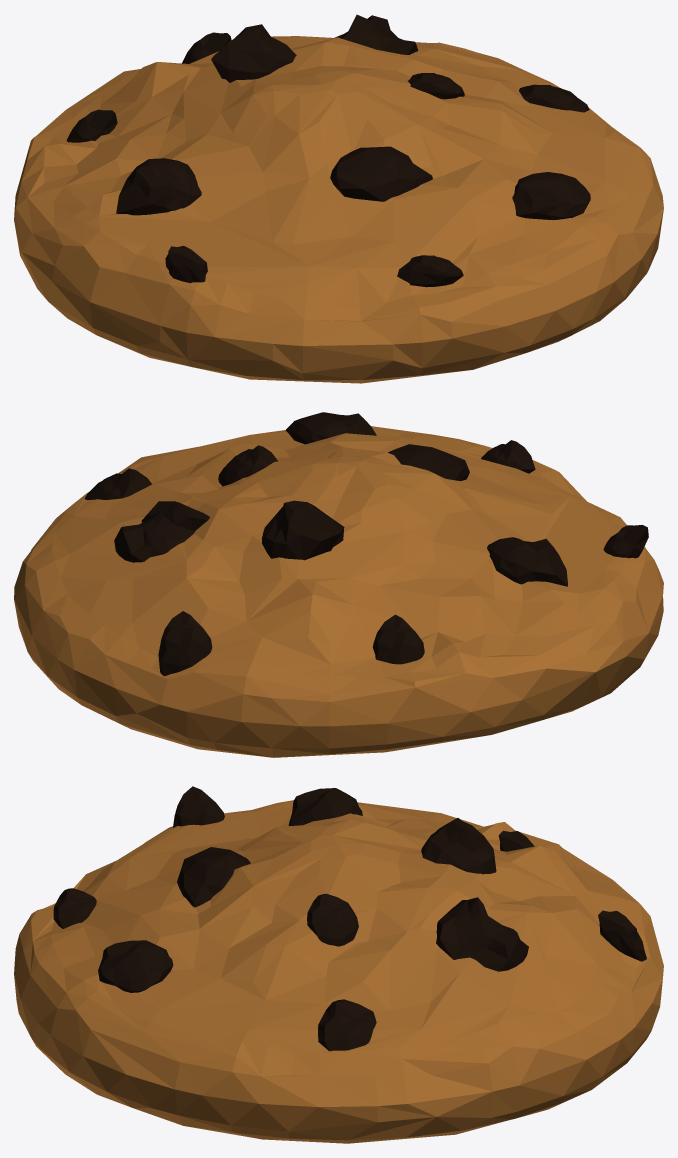
The model's file is Cookie obj.obj.
3 views of the same model, one above another, from view 1: azimuth 30°, elevation 25°; view 2: azimuth 150°, elevation 25°; view 3: azimuth 270°, elevation 25° (orthographic).
Visible parts, largest first — view 1: Cylinder001, Sphere003; view 2: Cylinder001, Sphere003; view 3: Cylinder001, Sphere003.
Part boxes in pixels (x1,y1,x2,y2): Cylinder001: (14, 36, 663, 383); Sphere003: (66, 14, 590, 287); Cylinder001: (14, 426, 663, 757); Sphere003: (84, 412, 648, 676); Cylinder001: (14, 800, 663, 1143); Sphere003: (53, 786, 646, 1051).
Size of the model in its own units: 1191 by 403 by 1188.
